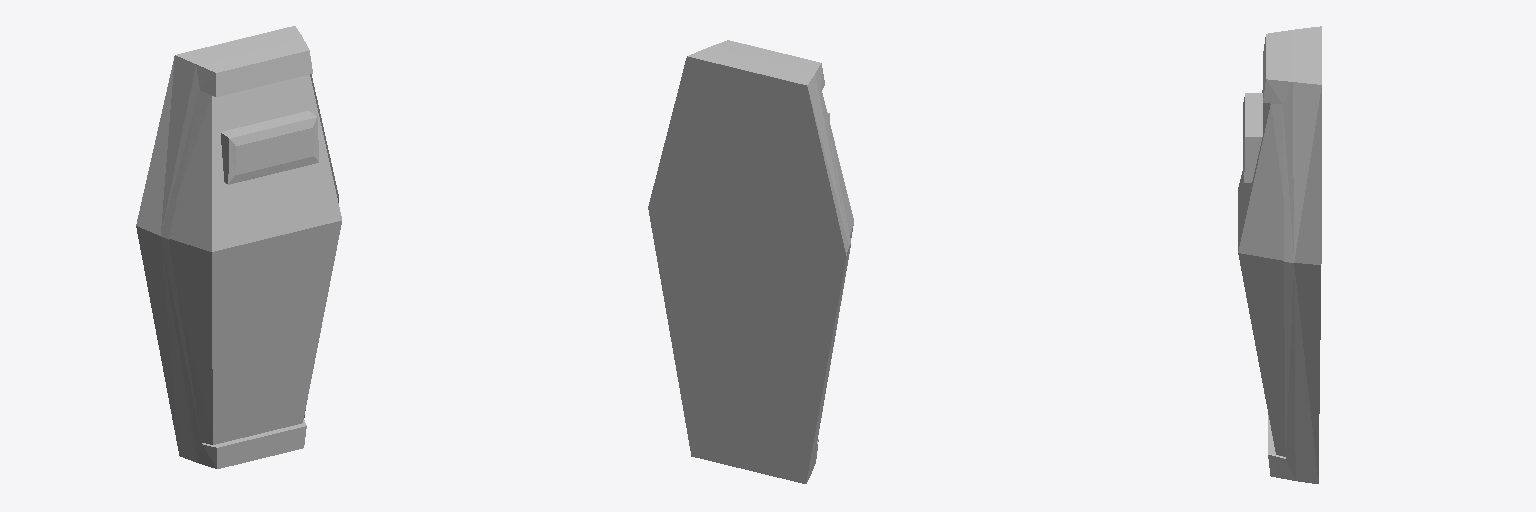
The model's file is shield_obj.obj.
3 renders of one model, left to right at view 1: azimuth 30°, elevation 25°; view 2: azimuth 150°, elevation 25°; view 3: azimuth 270°, elevation 25°, orthographic.
Parts seen in each view (by area): view 1: Cube; view 2: Cube; view 3: Cube.
Part boxes in pixels (bbox=[...]): Cube: bbox=[136, 26, 341, 468]; Cube: bbox=[648, 40, 853, 483]; Cube: bbox=[1238, 26, 1321, 483].
Size of the model in its own units: 2.5 by 4.83 by 0.916.